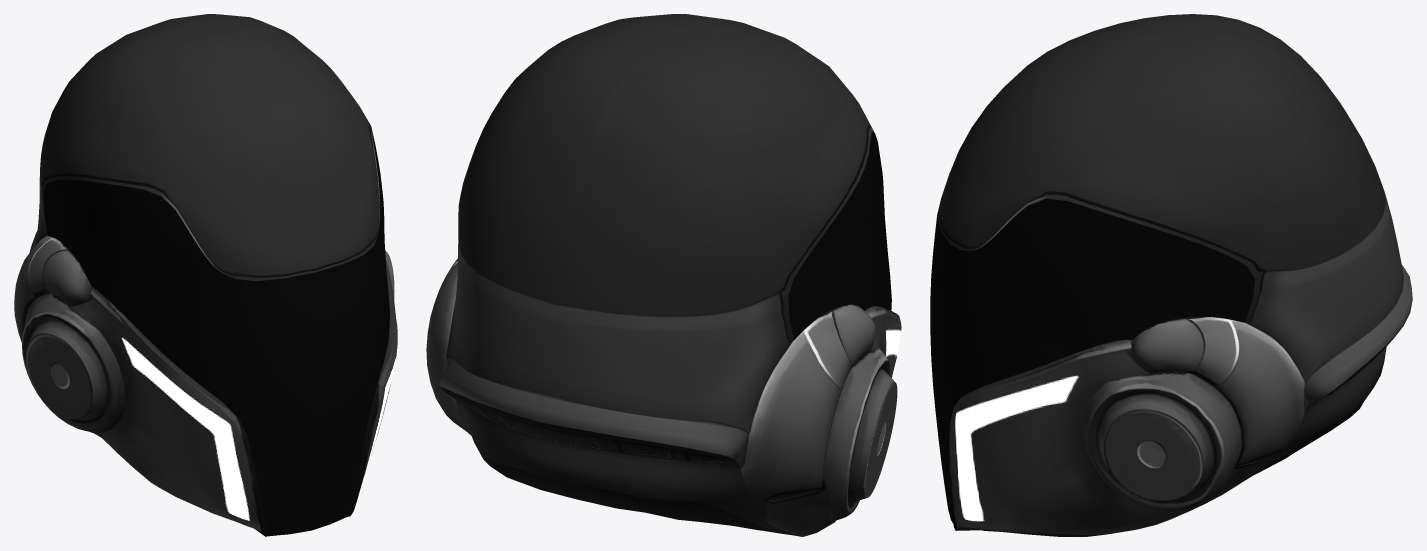
The model's file is product2.glb.
3 renders of one model, left to right at view 1: azimuth 30°, elevation 25°; view 2: azimuth 150°, elevation 25°; view 3: azimuth 270°, elevation 25°, orthographic. The views are drawn at different scales.
Parts seen in each view (by area): view 1: Helmet Rogue; view 2: Helmet Rogue; view 3: Helmet Rogue.
Boxes of the visible parts, bbox=[...] form: Helmet Rogue: bbox=[14, 14, 397, 536]; Helmet Rogue: bbox=[426, 14, 901, 536]; Helmet Rogue: bbox=[930, 14, 1412, 536].
Size of the model in its own units: 0.0253 by 0.0293 by 0.0271.
Materials: 2 (1 with a texture image).
